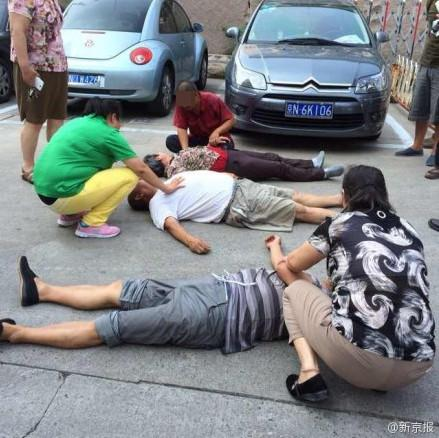fall: (141, 124, 344, 183)
